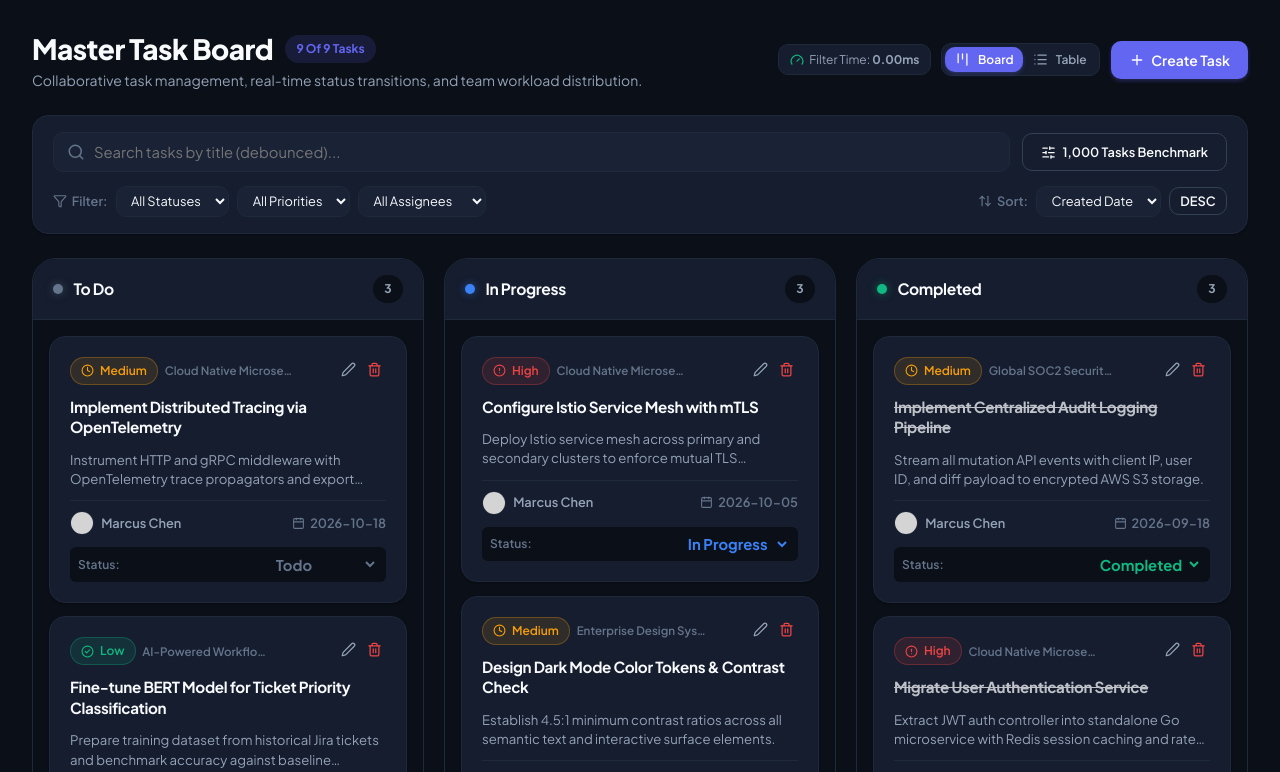
Scenario: Task Rendering, Search, and Filtering › displays empty state when search finds no results
The width and height of the screenshot is (1280, 772).
Expected: the heading "Configure Istio Service Mesh with mTLS" is shown, [482,397,798,417]
In the field with placeholder "Search tasks by title (debounced)...": (532,152) [53,132,1010,172], type "NonExistentTaskXYZ999"
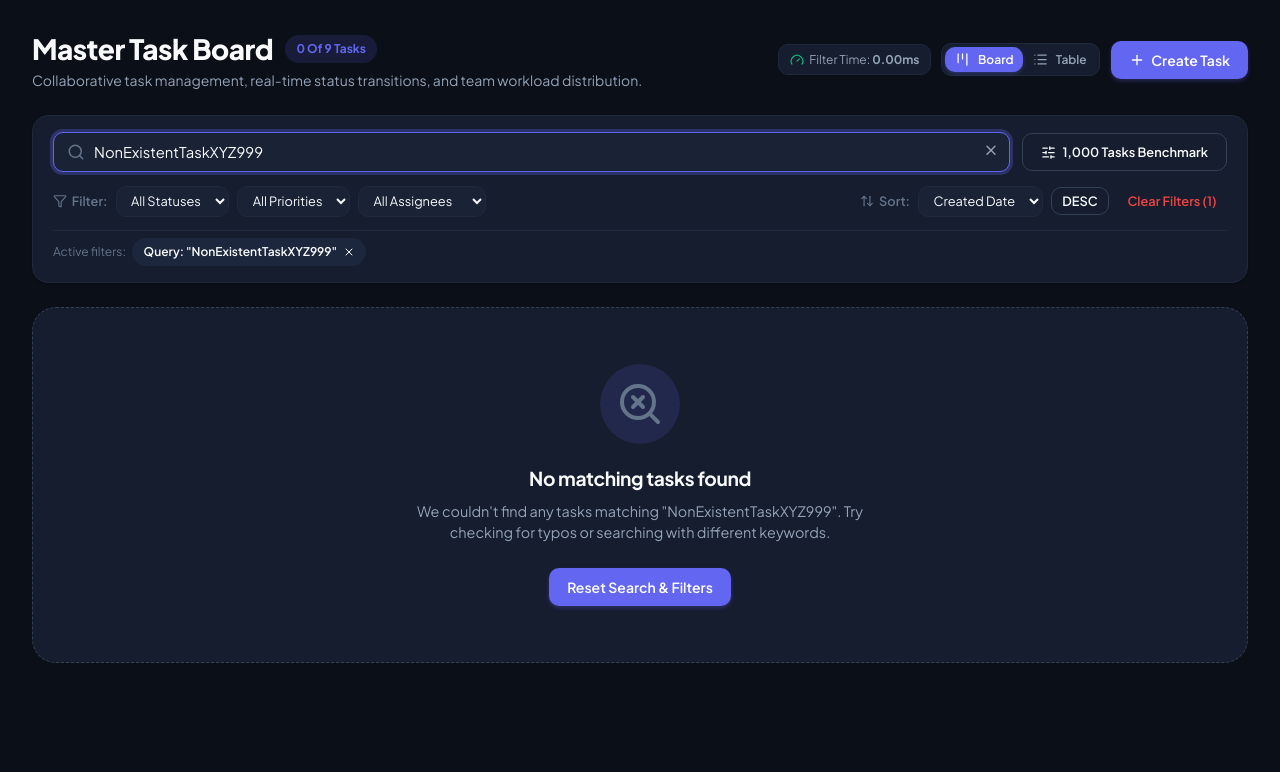
Now the heading "No matching tasks found" is shown, box [529,464,751,493]
